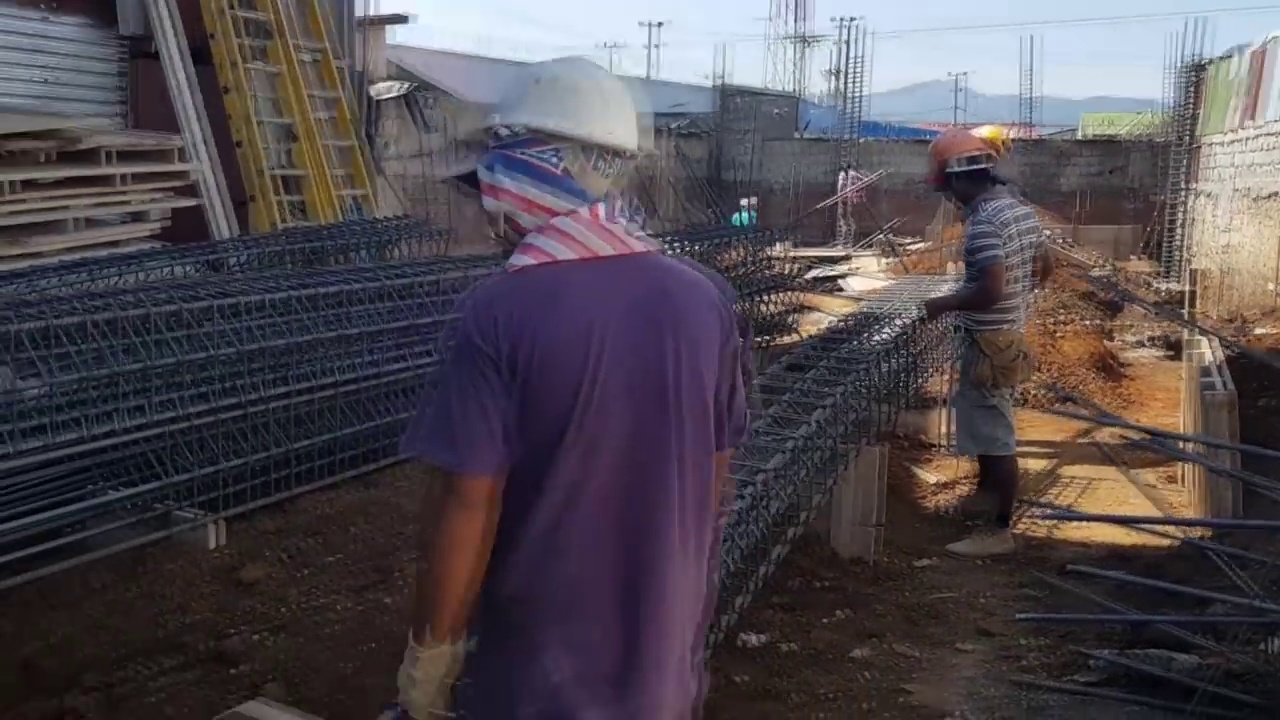helmet: (478, 56, 643, 181), (927, 122, 1015, 180), (750, 196, 761, 205), (739, 198, 750, 207)
helmet-off: (836, 160, 858, 173)
helmet-on: (463, 62, 658, 244), (920, 122, 1016, 214), (740, 198, 750, 214), (750, 196, 760, 210)
person: (384, 56, 751, 718), (921, 104, 1036, 541), (835, 161, 870, 250), (731, 198, 750, 226), (749, 195, 761, 227)
